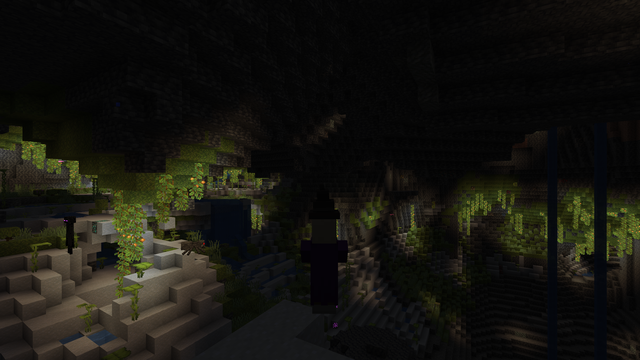araignees: (180, 237, 207, 254)
endermens: (63, 214, 76, 254)
sorcieres: (303, 210, 343, 321)
